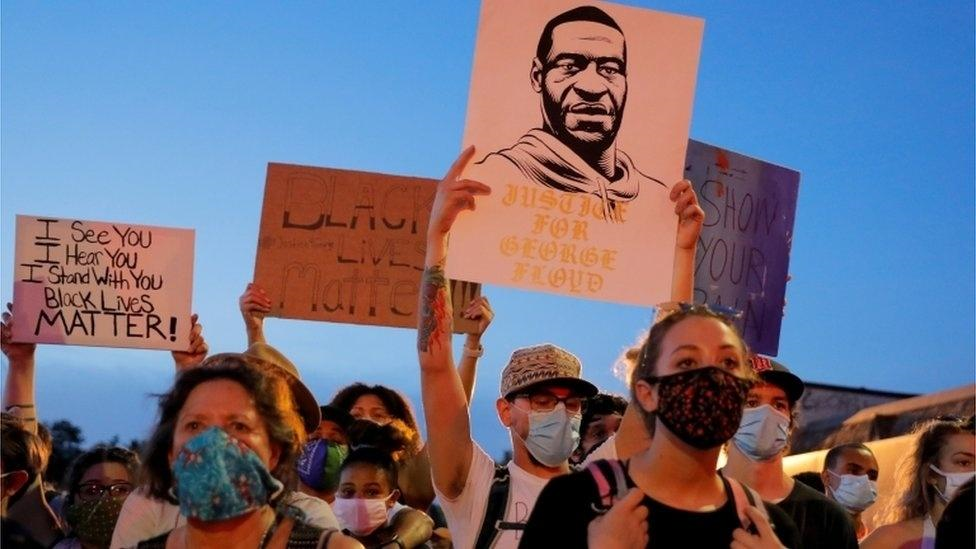with_mask: (157, 380, 285, 521), (642, 326, 751, 445), (501, 383, 591, 463), (65, 457, 147, 539), (733, 368, 796, 460), (337, 471, 398, 530), (826, 448, 881, 513), (300, 413, 348, 487)
